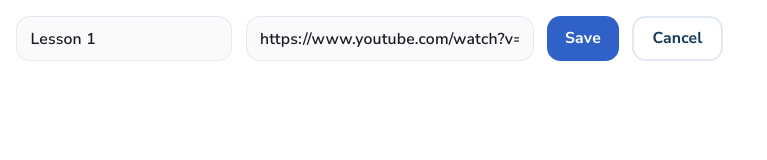
EditLessonForm › shows saving state while submitting
Click the button "Save" at (583,38), box [547,16,619,61]
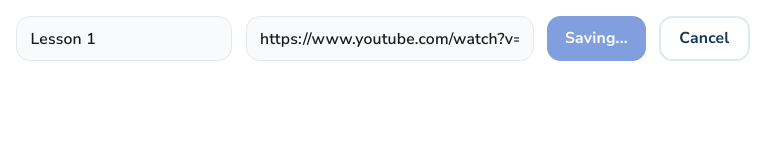
Expected: the button "Saving..." is disabled, [547,16,646,61]
